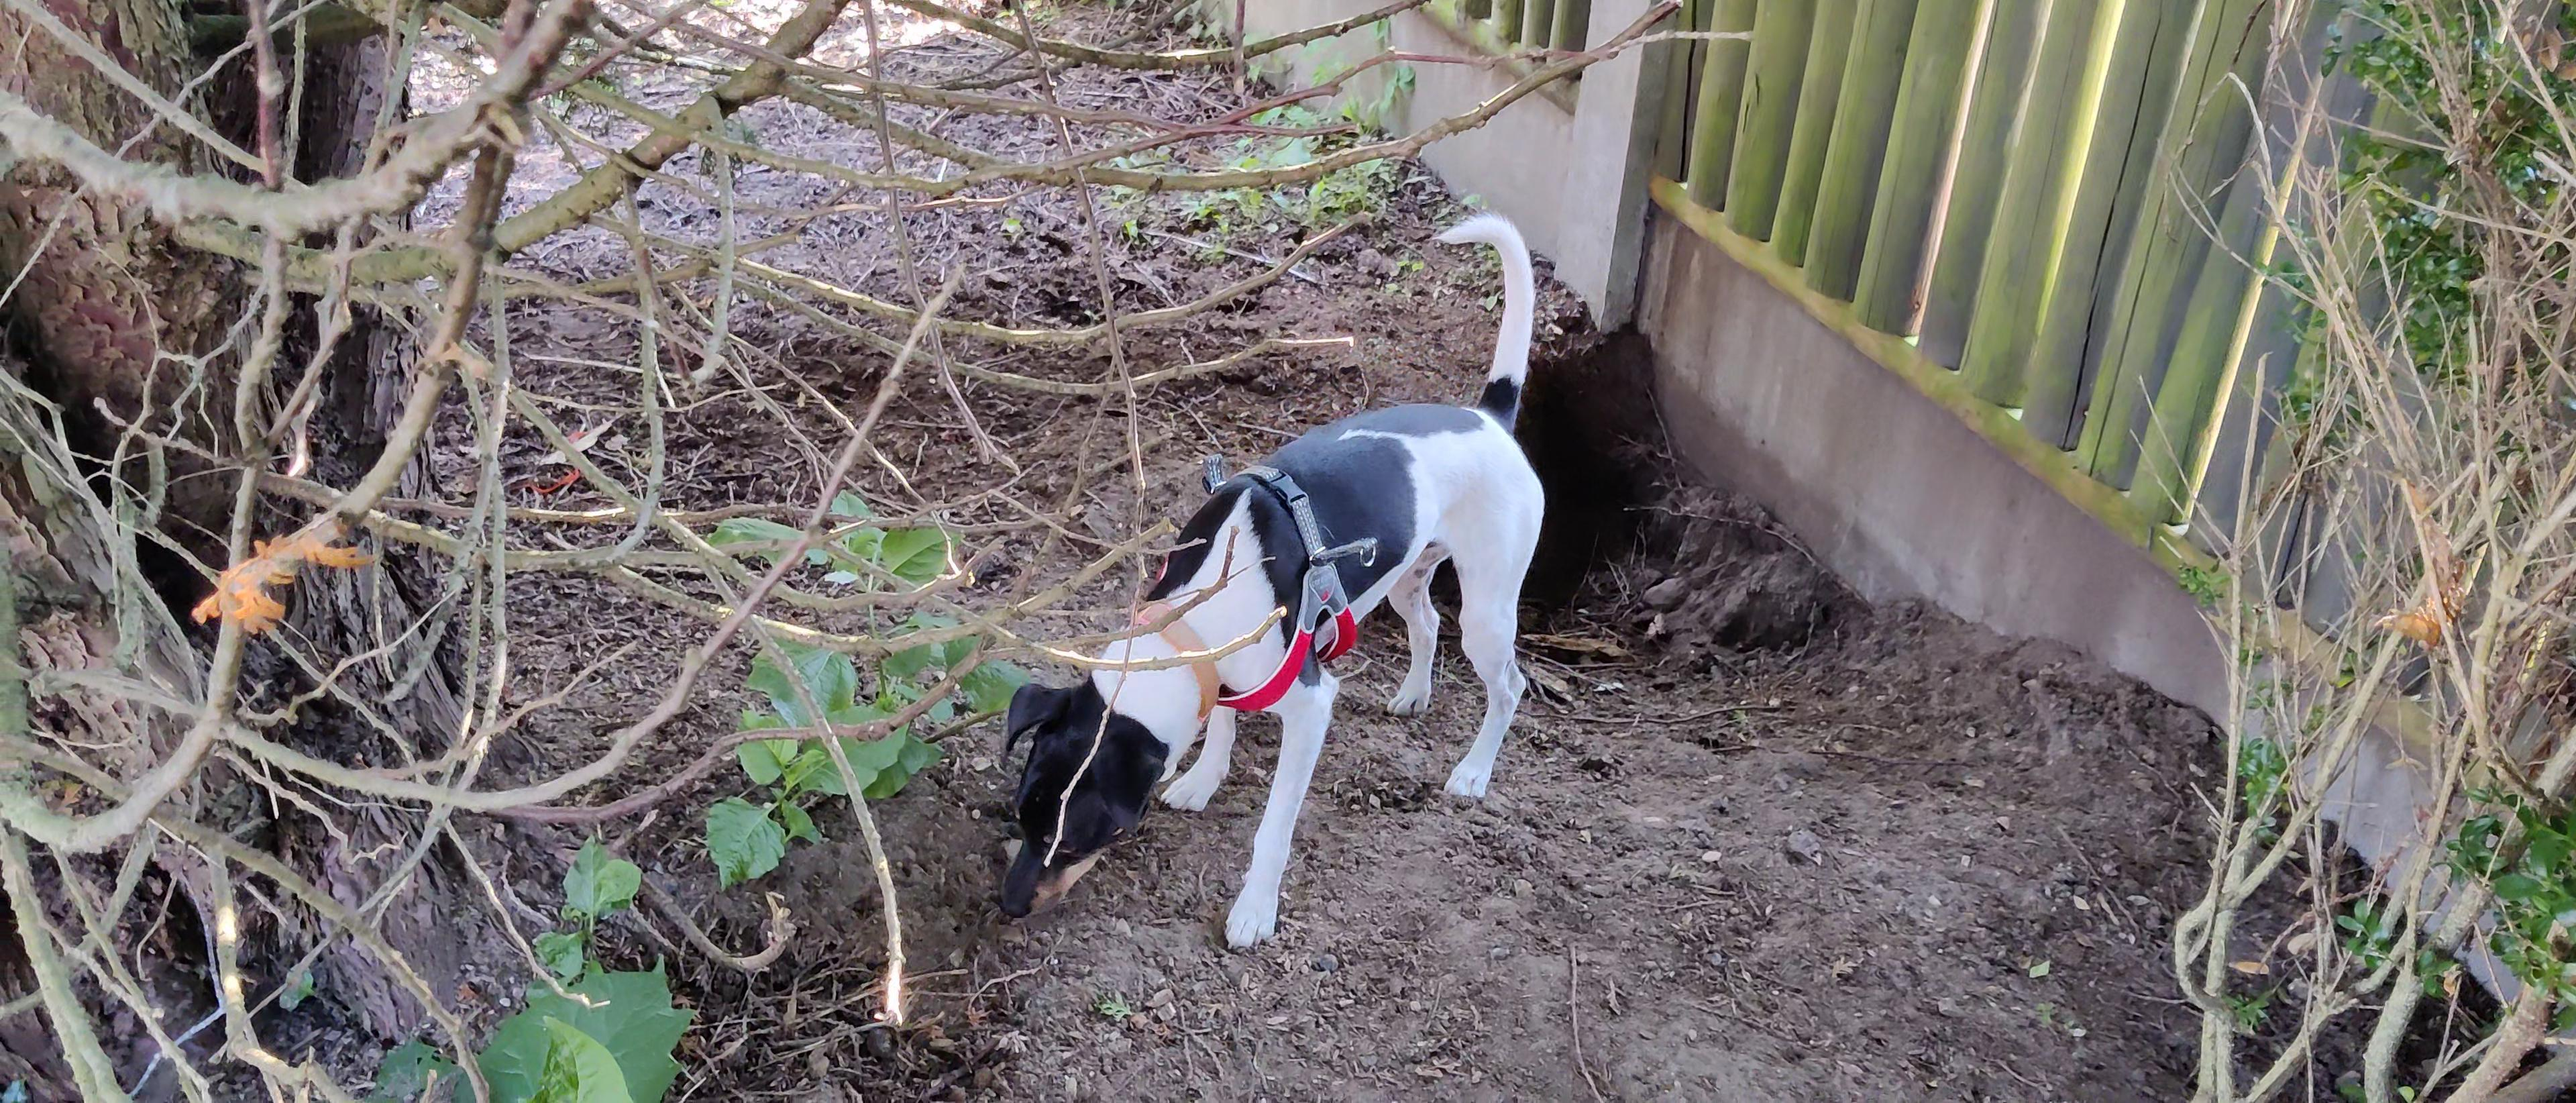Dog: (948, 189, 1562, 953)
